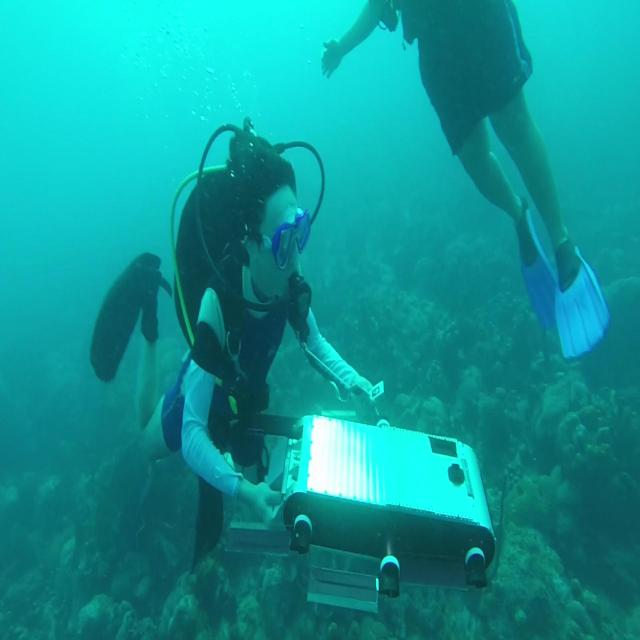human: (88, 116, 386, 574), (320, 0, 611, 361)
